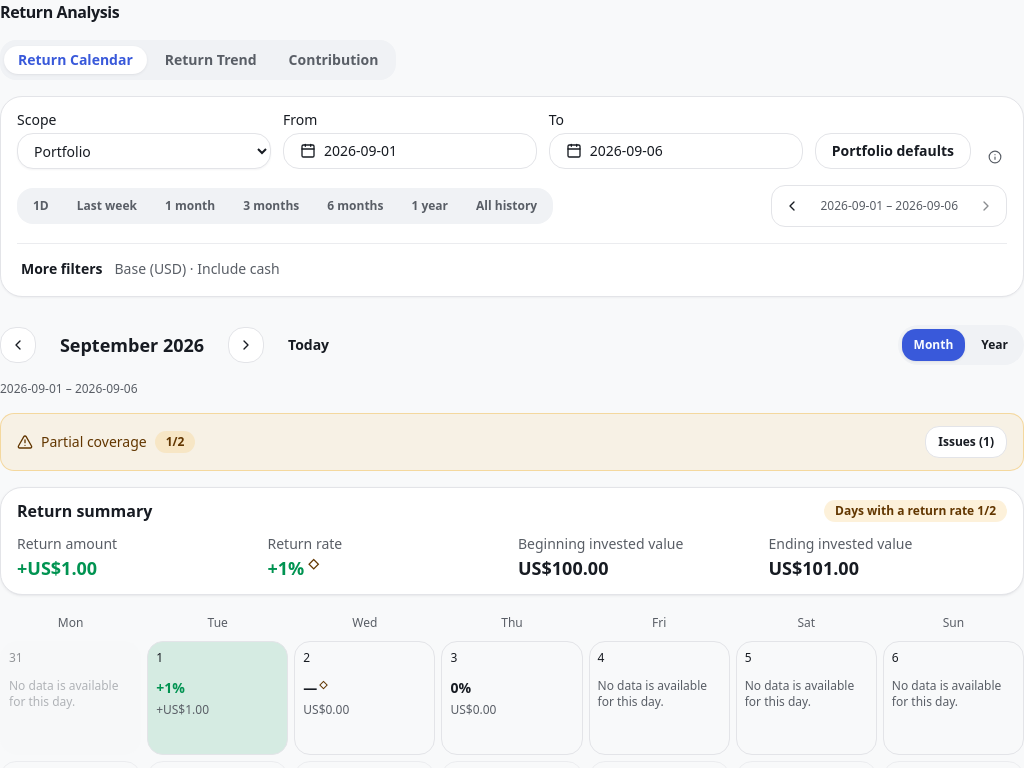
Test: ReturnAnalysisPage › marks partial coverage and opens the period issues list
Expected: the text "Partial coverage" is shown, [41, 432, 147, 452]
Expected: the text "1/2" is shown, [155, 431, 195, 453]
Click the button "Issues (1)" at (966,442), box [925, 426, 1007, 458]
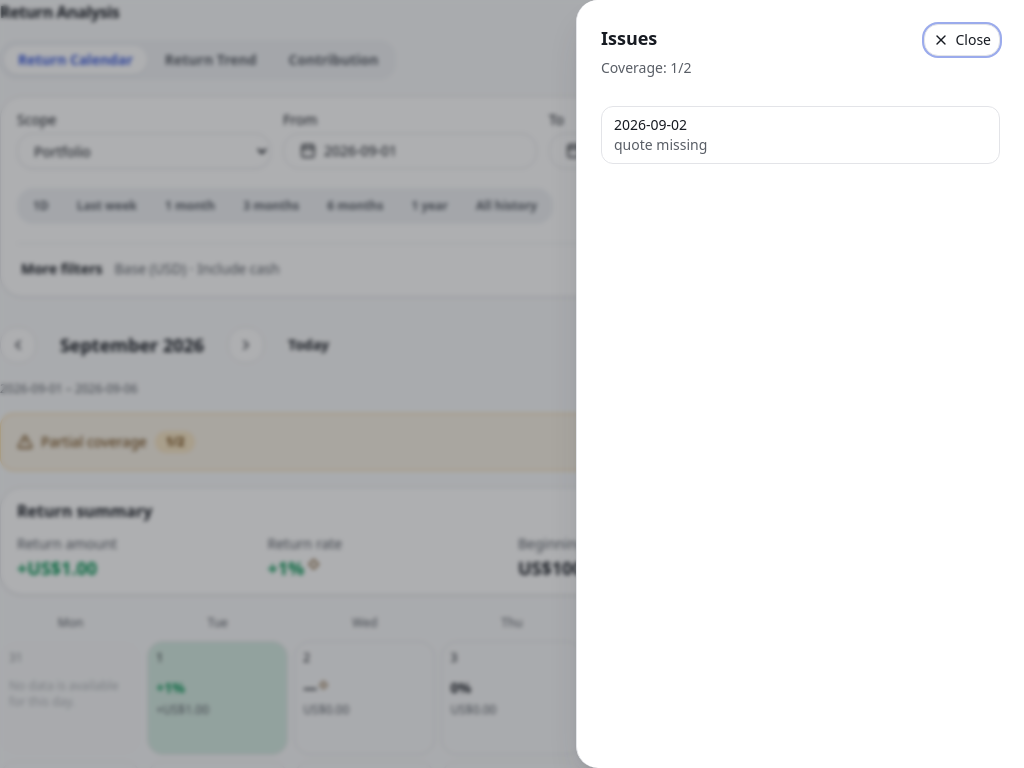
Result: the text "quote missing" is shown at [614, 135, 707, 154]
